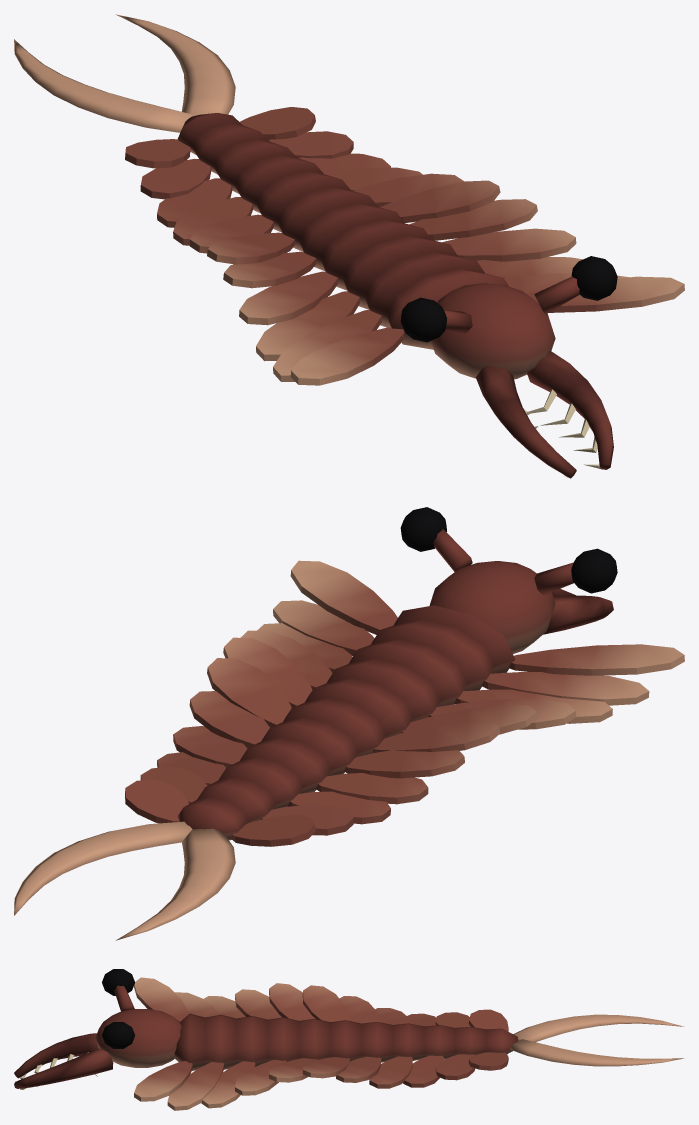
The model's file is Lyrarapax.fbx.
3 renders of one model, top to bottom at view 1: azimuth 30°, elevation 25°; view 2: azimuth 150°, elevation 25°; view 3: azimuth 270°, elevation 25°, orthographic. The views are drawn at different scales.
Parts seen in each view (by area): view 1: Lyrarapax; view 2: Lyrarapax; view 3: Lyrarapax.
Part boxes in pixels (x1=…): Lyrarapax: x1=14, y1=14, x2=684, y2=478; Lyrarapax: x1=14, y1=507, x2=684, y2=940; Lyrarapax: x1=14, y1=969, x2=684, y2=1110.
Bounding box in the file's own units: 0.6127 × 0.2089 × 1.45.
